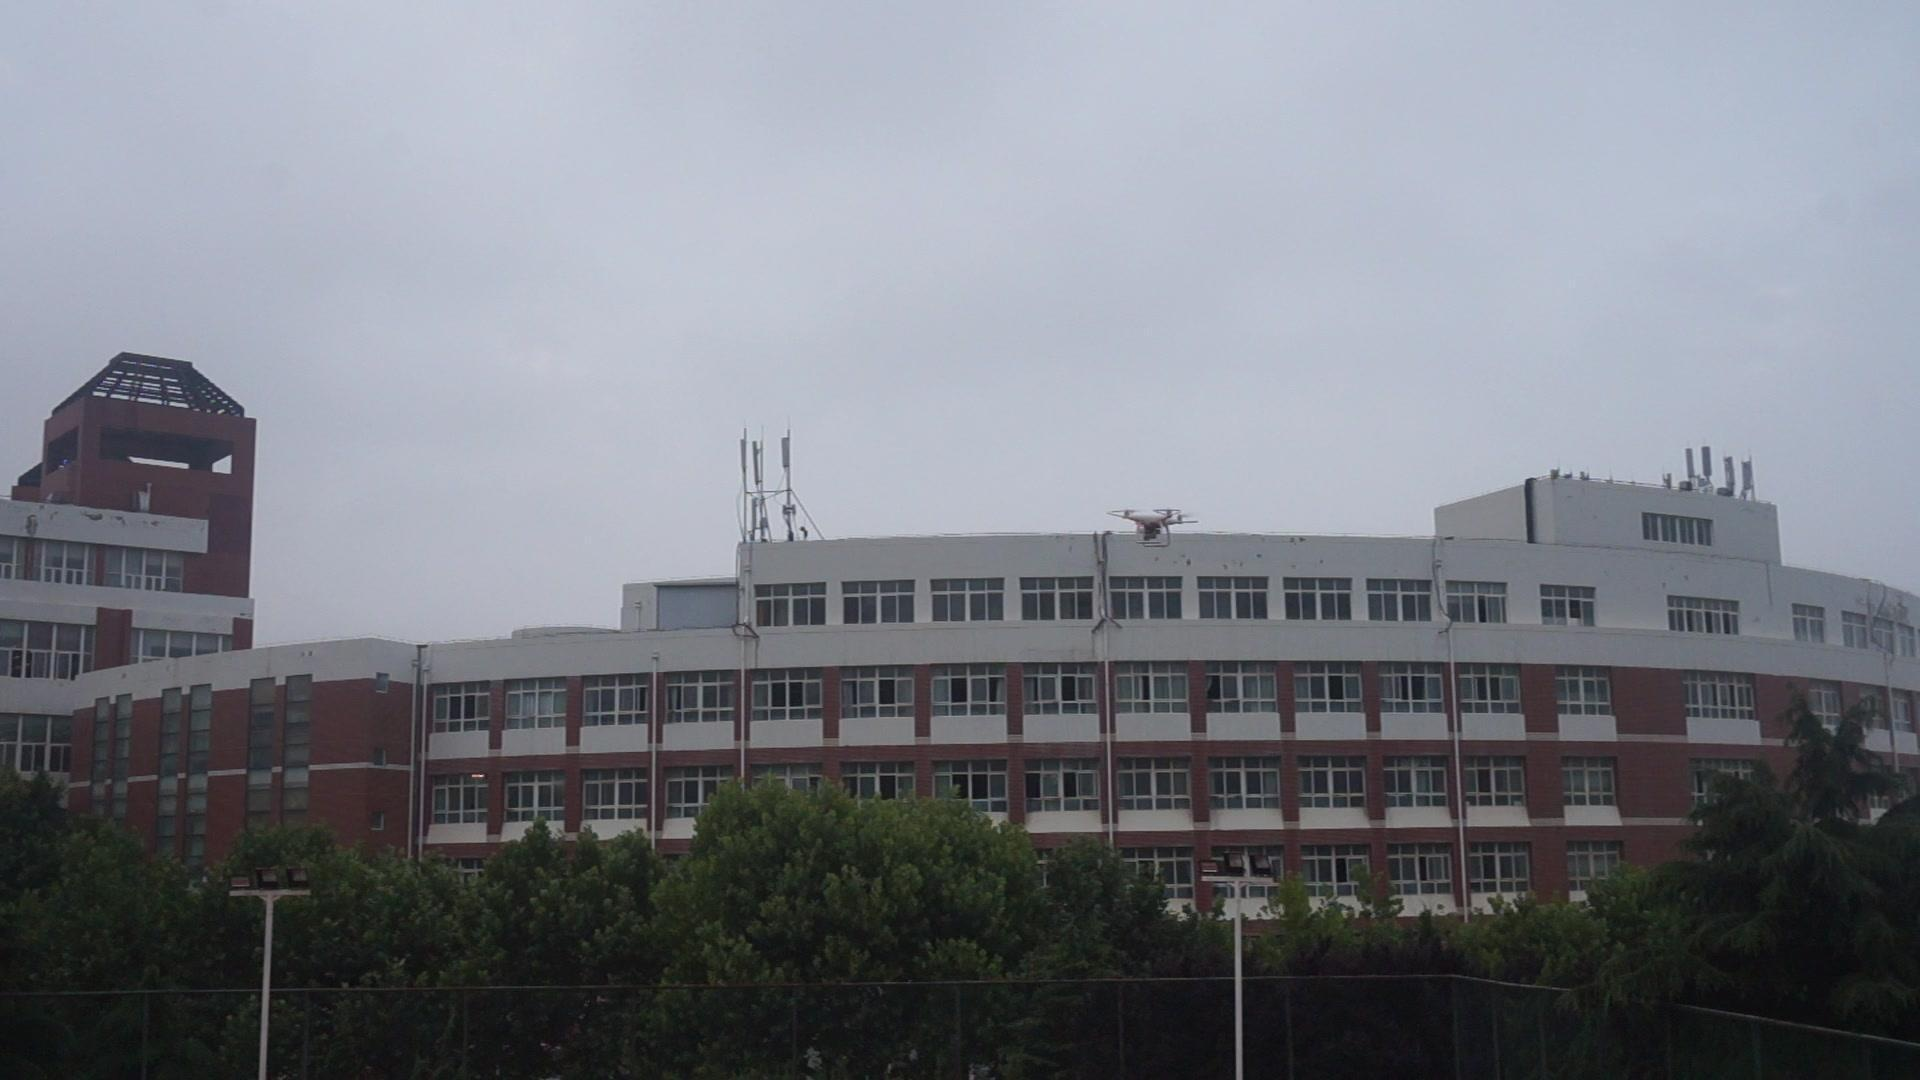UAV: (1108, 510, 1199, 549)
